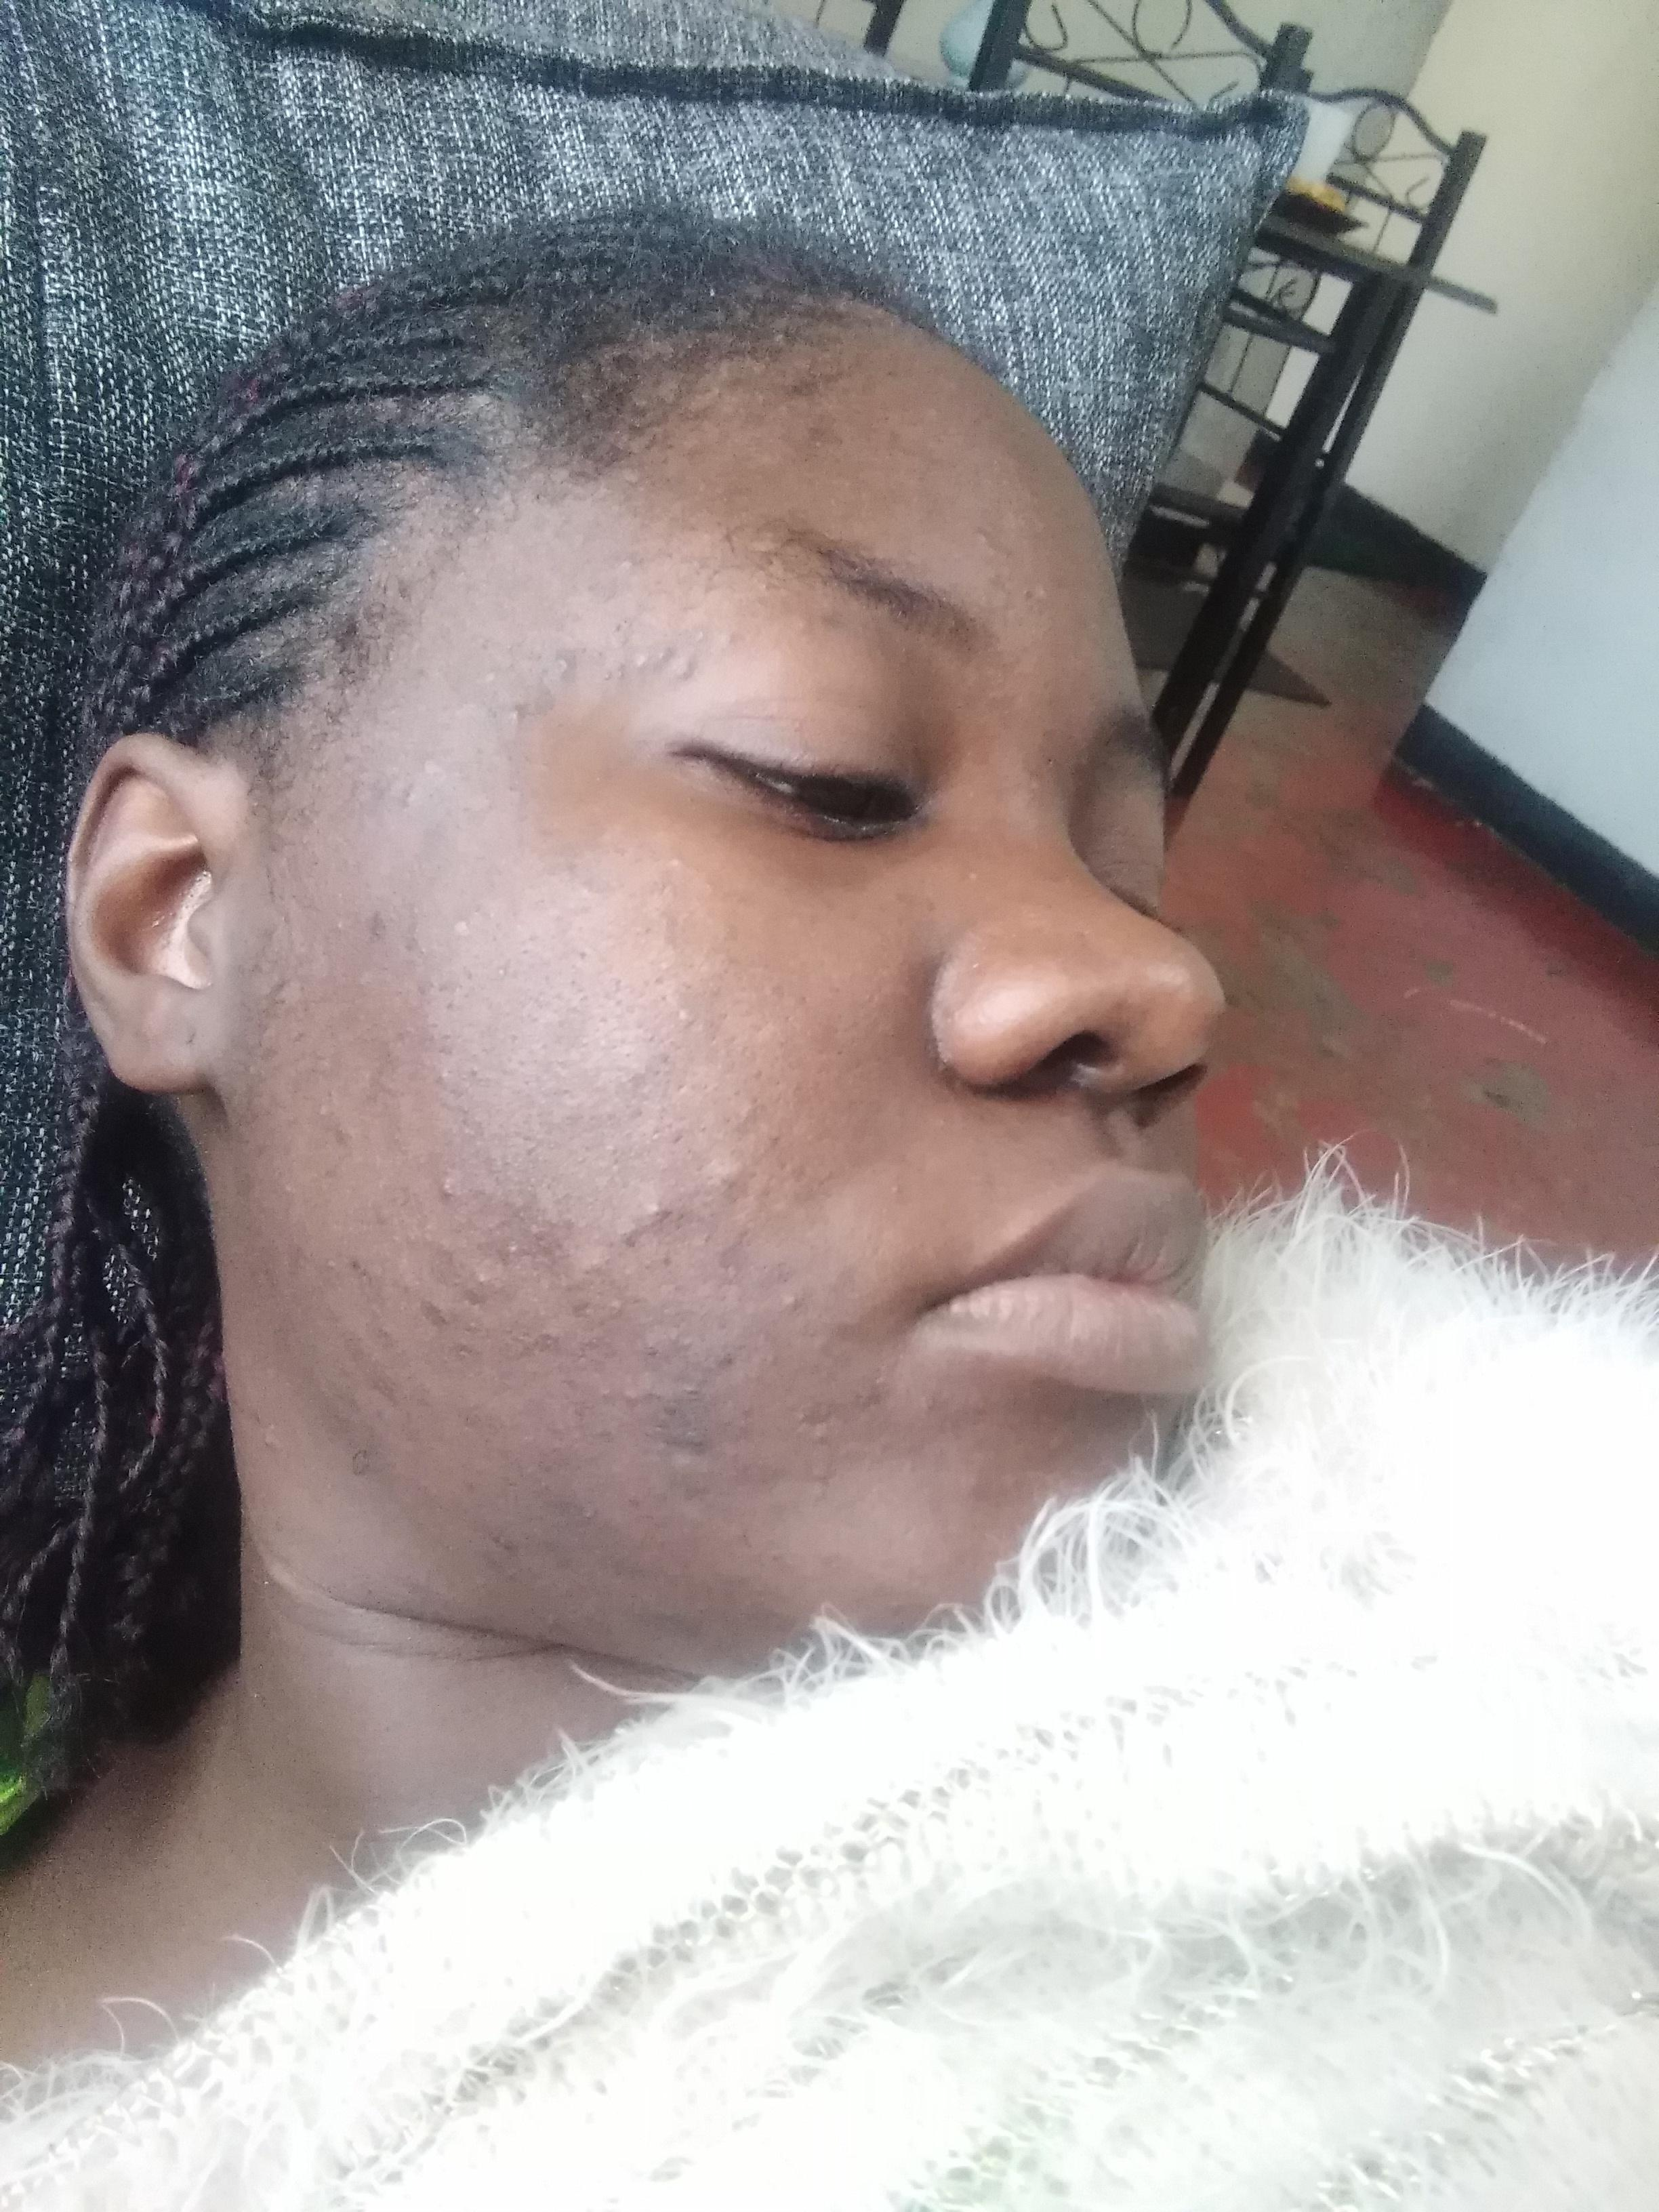Acne: (631, 1376, 721, 1460), (624, 639, 701, 686), (392, 747, 439, 815), (613, 1193, 676, 1240), (708, 1151, 755, 1197), (789, 608, 847, 641), (969, 521, 1007, 568), (525, 1322, 570, 1360), (319, 1115, 364, 1148), (467, 1258, 497, 1308), (418, 1285, 448, 1332), (497, 690, 530, 730), (610, 1379, 652, 1411), (488, 1519, 518, 1562), (357, 909, 392, 946), (953, 1463, 990, 1498), (429, 1172, 464, 1207), (739, 1092, 769, 1132), (671, 1000, 704, 1035), (451, 1341, 491, 1369), (610, 547, 643, 578), (774, 1287, 810, 1315), (708, 622, 739, 653), (547, 650, 577, 683), (577, 1252, 606, 1280), (917, 397, 945, 425), (669, 848, 694, 878), (434, 1055, 457, 1087), (502, 1230, 523, 1263), (1028, 578, 1054, 604), (605, 1292, 626, 1324), (457, 909, 474, 939), (660, 1327, 683, 1350)
Englarged-Pores: (498, 946, 770, 1174)
